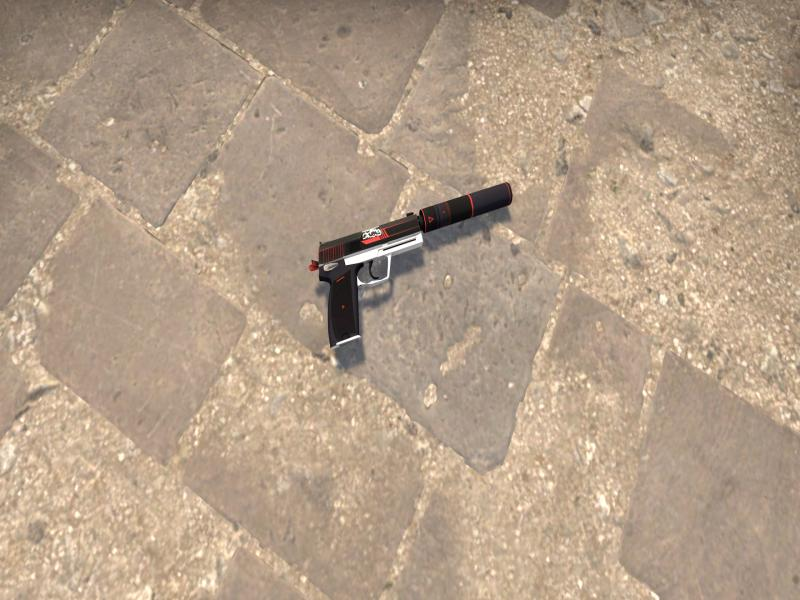USP: (310, 183, 512, 348)
